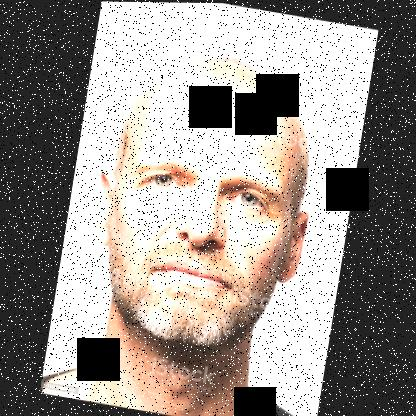Male: (74, 41, 330, 354)
